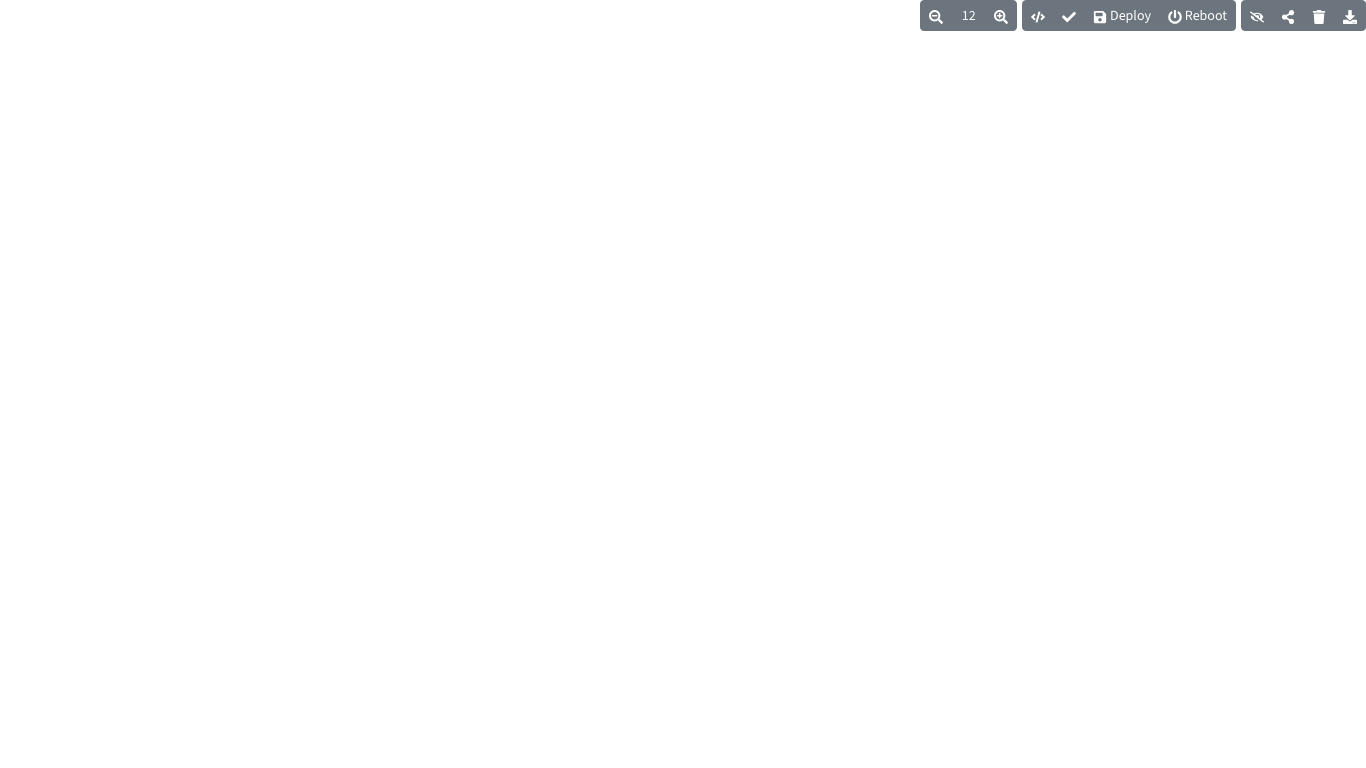
Test: EditorToolbar delete confirmation › does not delete on the first click — it opens a confirmation instead
The width and height of the screenshot is (1366, 768).
Check: the text "Delete this app?" is not shown
Click the button named "Delete app".
click(1319, 16)  # box [1303,0,1335,31]
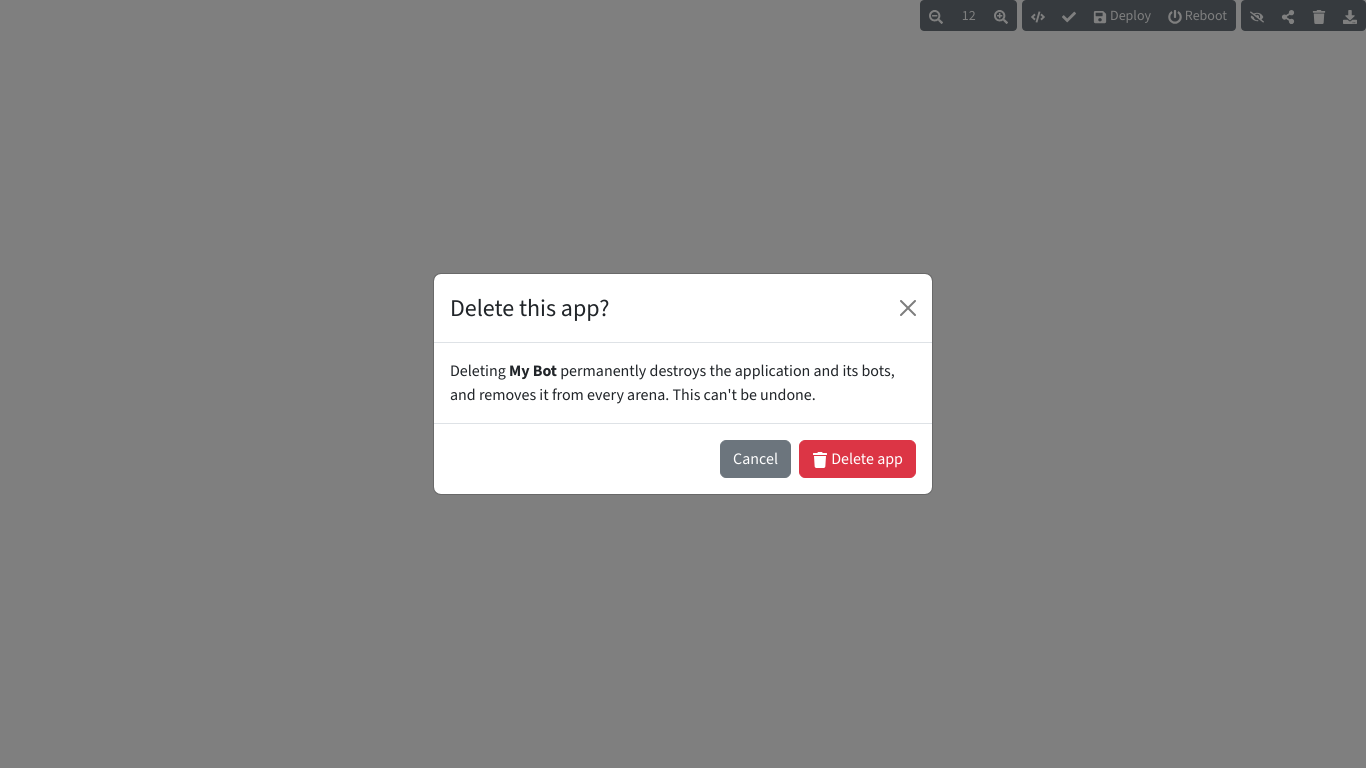
Check: the text "Delete this app?" is shown, box [450,290,610,326]
